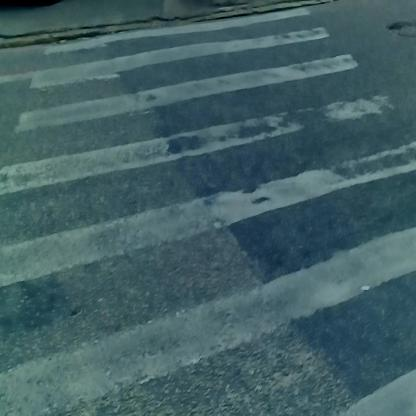crosswalk: (12, 53, 416, 416)
sidewalk: (3, 4, 356, 49)
